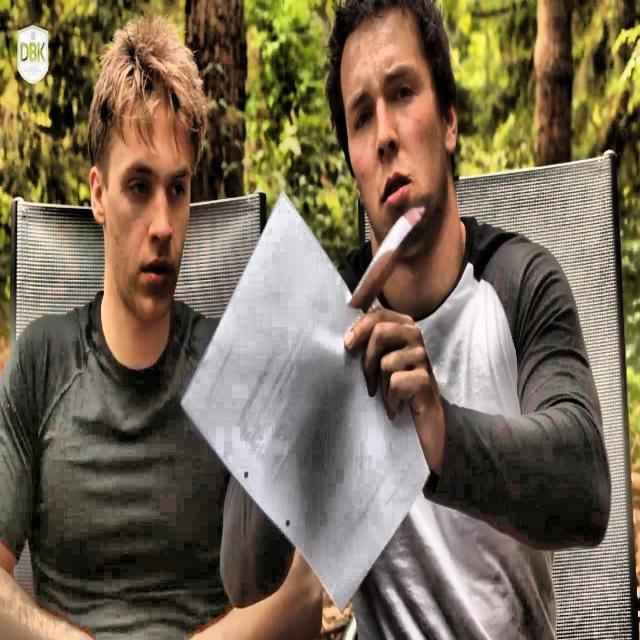knife: (350, 208, 427, 311)
